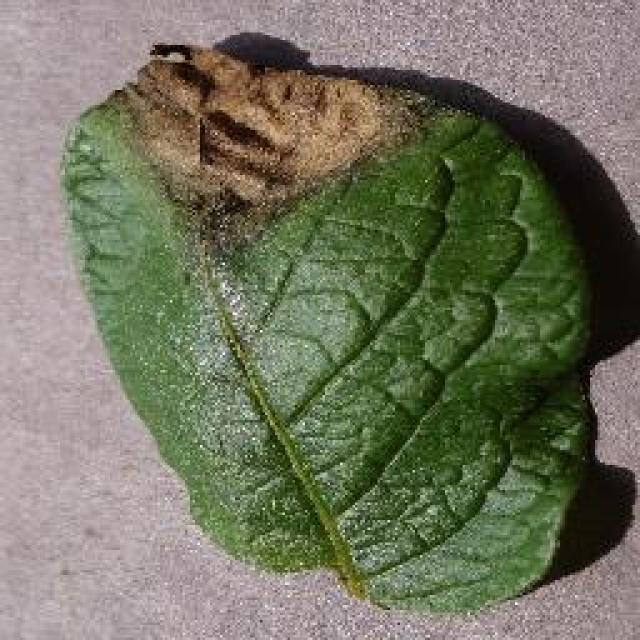late_blight: (55, 50, 600, 615)
